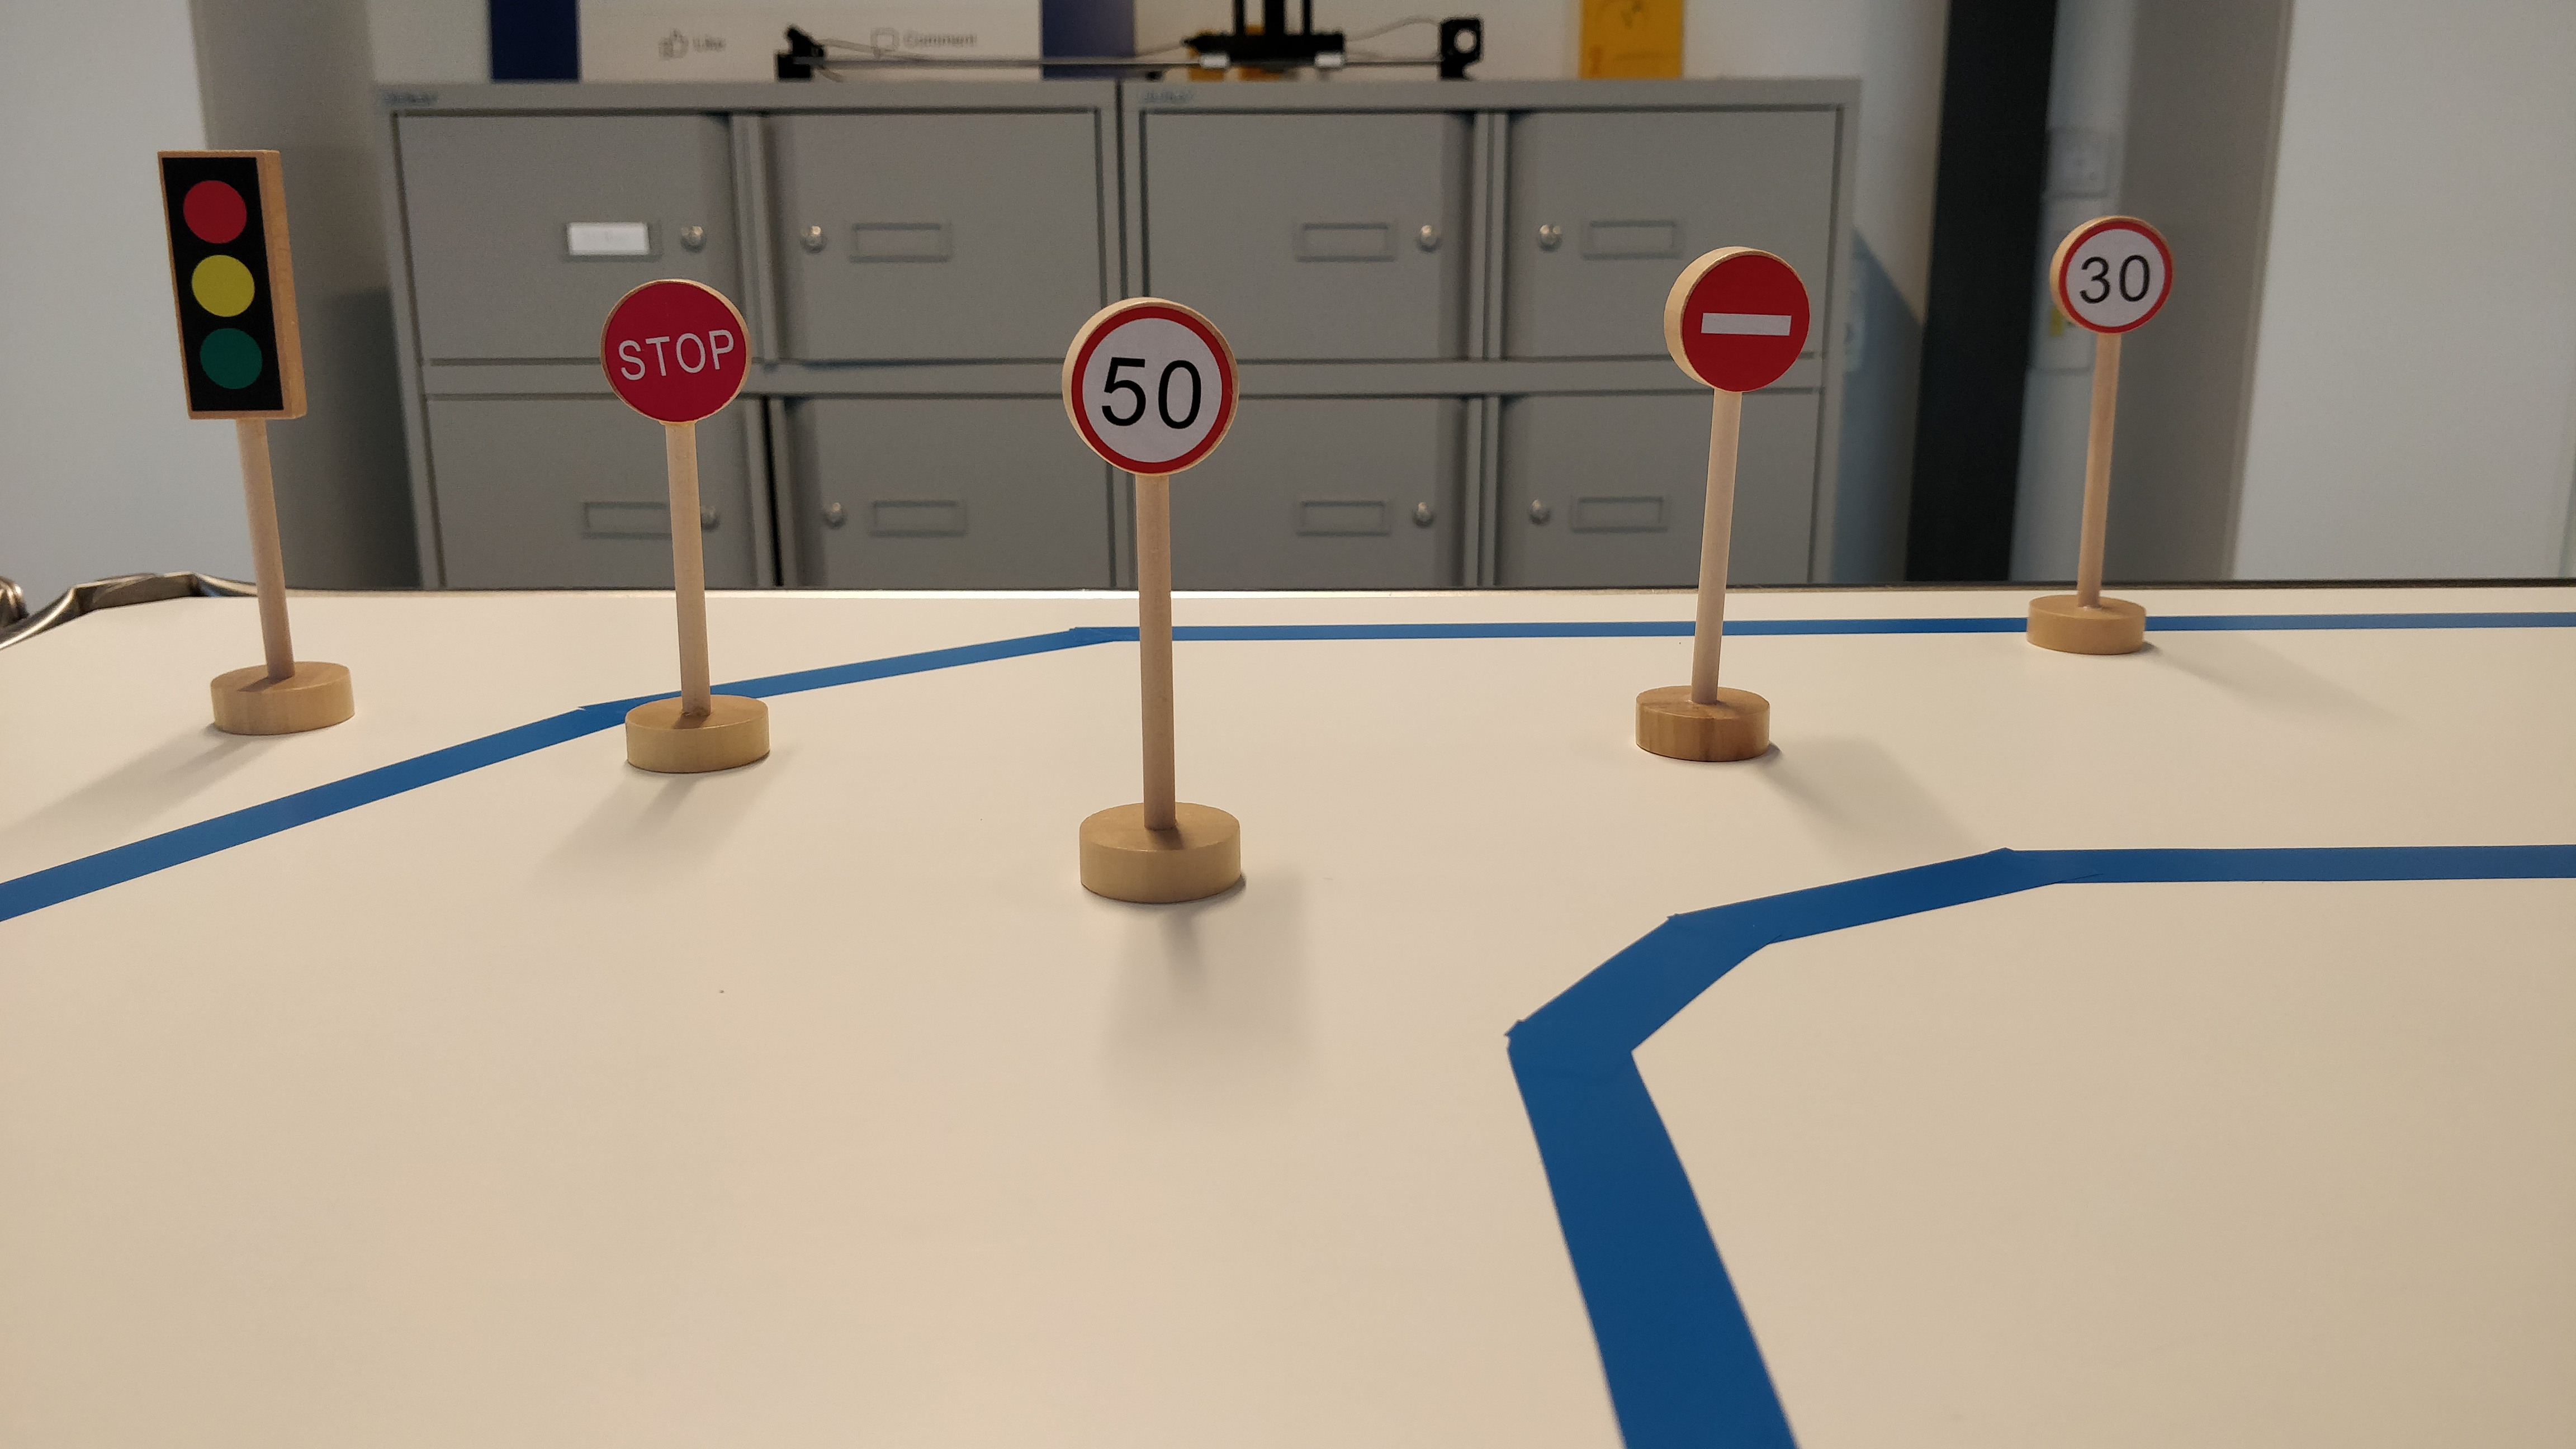Prohibition Sign: (1656, 243, 1813, 400)
Speed Limit 30: (2047, 214, 2173, 333)
Speed Limit 50: (1056, 291, 1242, 483)
Stop Sign: (599, 274, 754, 430)
Traffic Light: (150, 144, 314, 420)
